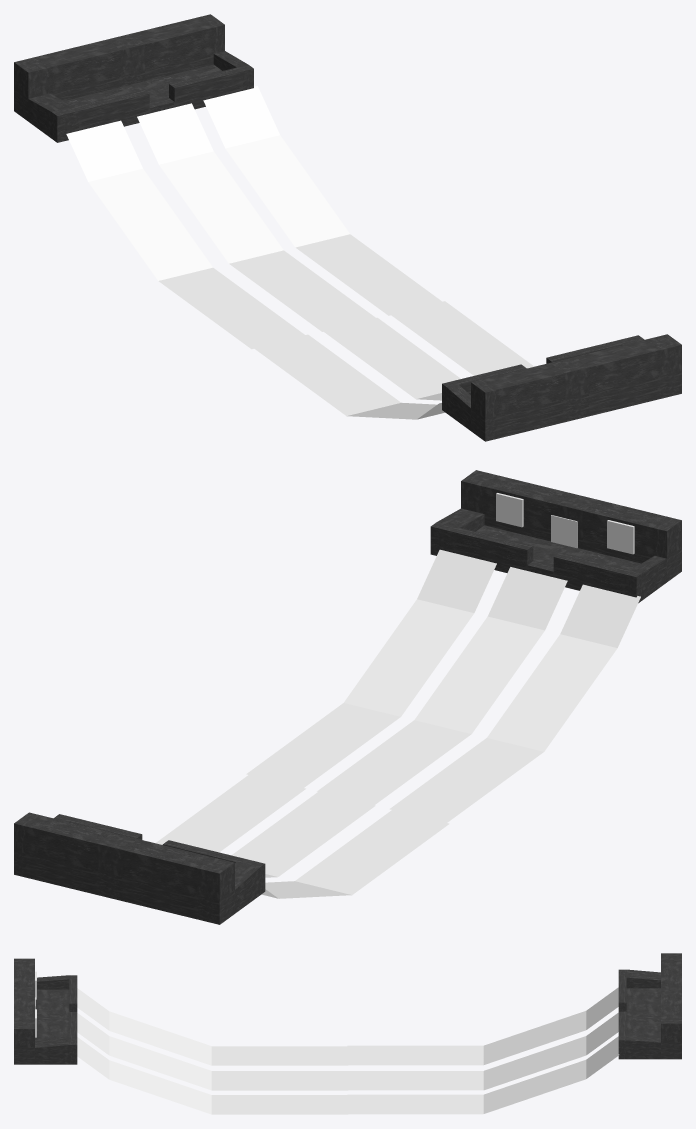
The model's file is FlagSlide.glb.
The picture shows the model from 3 angles, top to bottom: view 1: azimuth 30°, elevation 25°; view 2: azimuth 150°, elevation 25°; view 3: azimuth 270°, elevation 25°; orthographic projection. The views are drawn at different scales.
Visible parts, largest first — view 1: Cube.001, Cube, Plane.007-col, Plane.008-col, Plane.009-col, Plane.002-col, Plane.001-col, Plane; view 2: Cube, Cube.001, Plane.002-col, Plane.001-col, Plane, Plane.009-col, Plane.008-col, Plane.007-col, Cube.004, Cube.003, Cube.002; view 3: Cube.001, Cube, Plane.009-col, Plane.007-col, Plane, Plane.002-col, Plane.001-col, Plane.008-col.
Boxes of the visible parts, left/top/right/bottom form: Cube.001: left=14, top=14, right=253, bottom=142; Cube: left=442, top=334, right=681, bottom=441; Plane.007-col: left=203, top=86, right=441, bottom=315; Plane.008-col: left=137, top=103, right=375, bottom=331; Plane.009-col: left=66, top=120, right=304, bottom=349; Plane.002-col: left=253, top=334, right=444, bottom=419; Plane.001-col: left=323, top=317, right=460, bottom=400; Plane: left=390, top=301, right=533, bottom=375; Cube: left=430, top=470, right=681, bottom=603; Cube.001: left=14, top=812, right=265, bottom=924; Plane.002-col: left=389, top=584, right=640, bottom=823; Plane.001-col: left=317, top=567, right=567, bottom=805; Plane: left=246, top=549, right=496, bottom=788; Plane.009-col: left=261, top=810, right=449, bottom=898; Plane.008-col: left=231, top=792, right=375, bottom=877; Plane.007-col: left=155, top=775, right=305, bottom=852; Cube.004: left=607, top=520, right=634, bottom=554; Cube.003: left=496, top=493, right=523, bottom=527; Cube.002: left=551, top=515, right=577, bottom=548; Cube.001: left=618, top=953, right=681, bottom=1059; Cube: left=14, top=958, right=77, bottom=1064; Plane.009-col: left=347, top=987, right=618, bottom=1065; Plane.007-col: left=347, top=1036, right=619, bottom=1114; Plane: left=77, top=1037, right=348, bottom=1114; Plane.002-col: left=77, top=988, right=348, bottom=1065; Plane.001-col: left=77, top=1013, right=348, bottom=1090; Plane.008-col: left=348, top=1012, right=618, bottom=1090.
Size of the model in its own units: 16.94 by 9.32 by 63.32.
5 materials, 1 textured.
